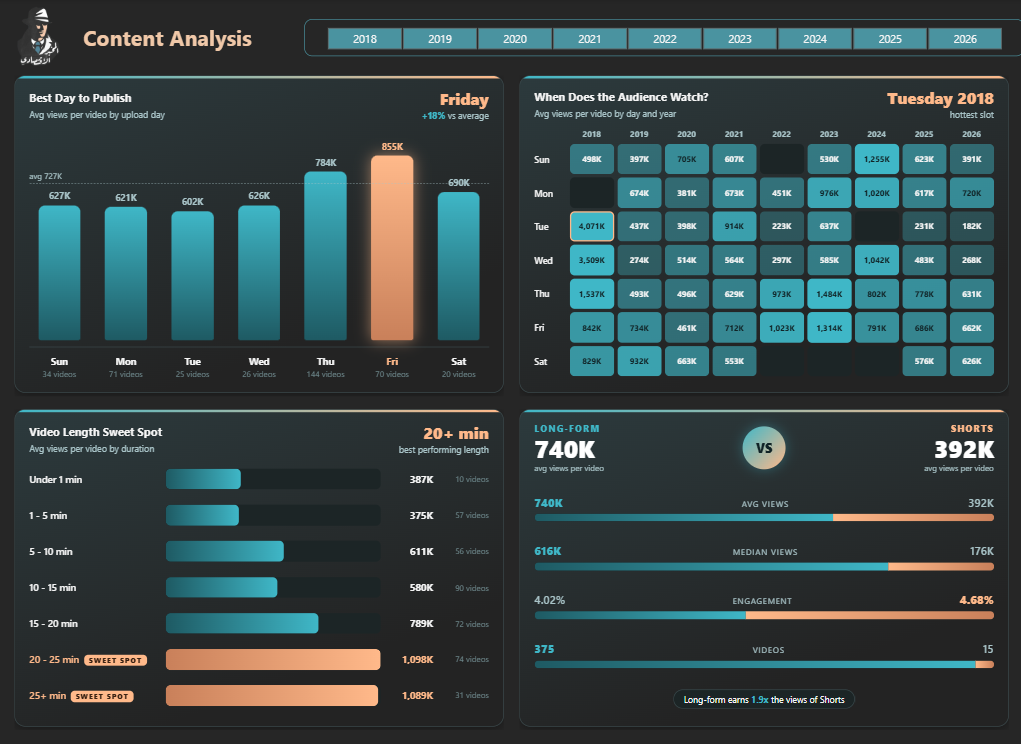

Layout of this report page (visuals, bound fields, positions):
{"tool":"powerbi","page":{"name":"Content Analysis","canvas":[1280,930],"ordinal":1},"visuals":[{"type":"htmlContent443BE3AD55E043BF878BED274D3A6855","fields":{"content":["_Measures.Heatmap_HTML"]},"box":[650,95,610,400],"z":0},{"type":"htmlContent443BE3AD55E043BF878BED274D3A6855","fields":{"content":["_Measures.Weekday_HTML"]},"box":[20,95,610,400],"z":1000},{"type":"image","box":[0,0,100.5,95.5],"z":2000},{"type":"htmlContent443BE3AD55E043BF878BED274D3A6855","fields":{"content":["_Measures.Versus_HTML"]},"box":[649.8,511.1,610,400],"z":3000},{"type":"slicer","fields":{"Values":["video_stats.upload_year"]},"box":[381.8,24.9,897.6,46.7],"z":4000},{"type":"textbox","box":[100.5,25.1,279.8,46.9],"z":5000},{"type":"htmlContent443BE3AD55E043BF878BED274D3A6855","fields":{"content":["_Measures.Duration_HTML"]},"box":[20.3,511.1,610,400],"z":6000}]}

Visuals, with their boxes in screenshot pixels (x1, y1, x2, y2), scaled from the page's 1280x930 canvas onto the 1021x744 screenshot:
htmlContent443BE3AD55E043BF878BED274D3A6855 - _Measures.Heatmap_HTML: l=518, t=76, r=1005, b=396
htmlContent443BE3AD55E043BF878BED274D3A6855 - _Measures.Weekday_HTML: l=16, t=76, r=503, b=396
image: l=0, t=0, r=80, b=76
htmlContent443BE3AD55E043BF878BED274D3A6855 - _Measures.Versus_HTML: l=518, t=409, r=1005, b=729
slicer - video_stats.upload_year: l=305, t=20, r=1020, b=57
textbox: l=80, t=20, r=303, b=58
htmlContent443BE3AD55E043BF878BED274D3A6855 - _Measures.Duration_HTML: l=16, t=409, r=503, b=729
